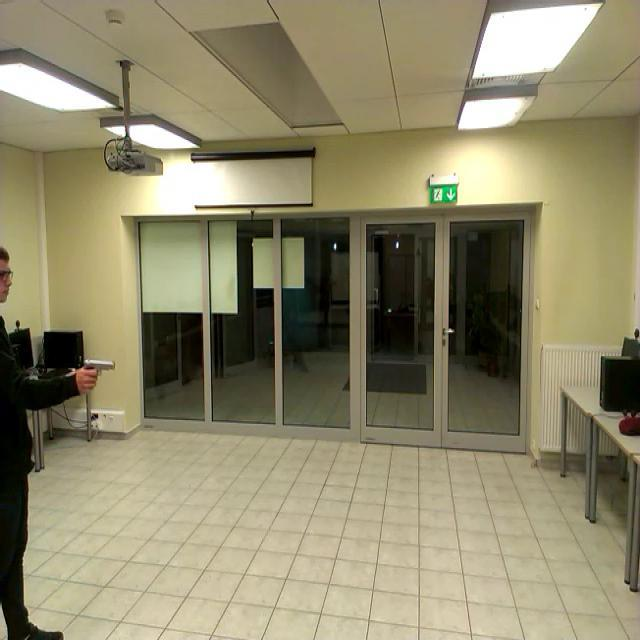Gun: (84, 357, 115, 388)
